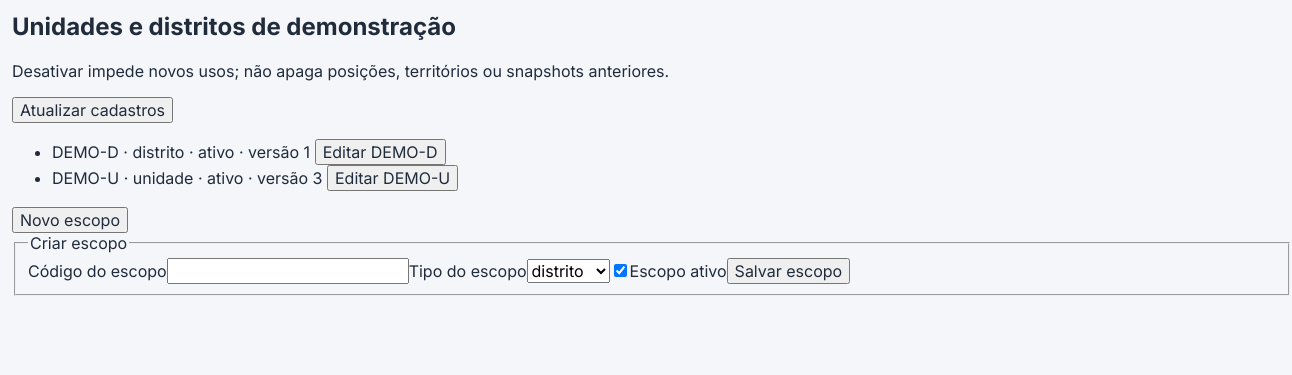
Scenario: administrative metadata boundary › retains the exact scope command after an ambiguous response and reloads durable metadata
Click the button "Editar DEMO-U": x=393, y=178 x1=327 y1=165 x2=458 y2=191
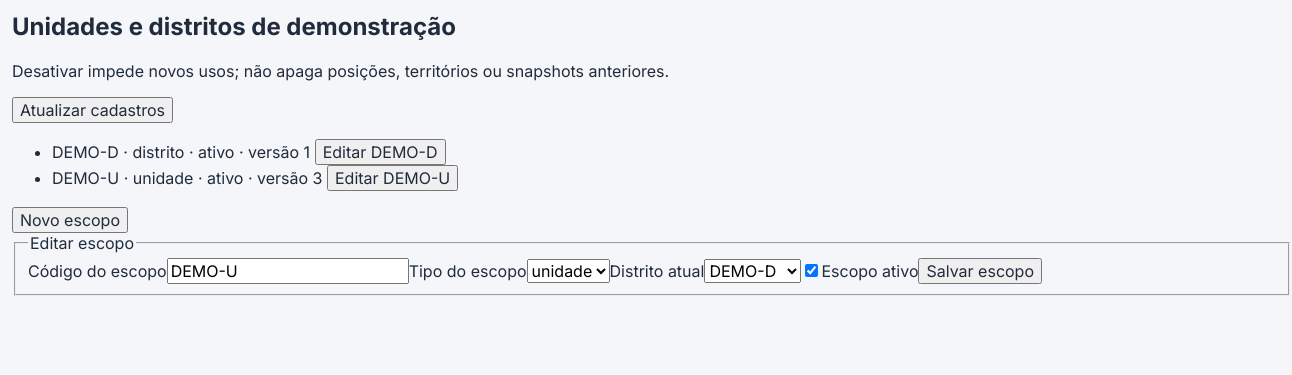
Replace the text in the field labelled "Código do escopo" with "DEMO-RENAMED": x=288, y=271 x1=167 y1=258 x2=409 y2=284
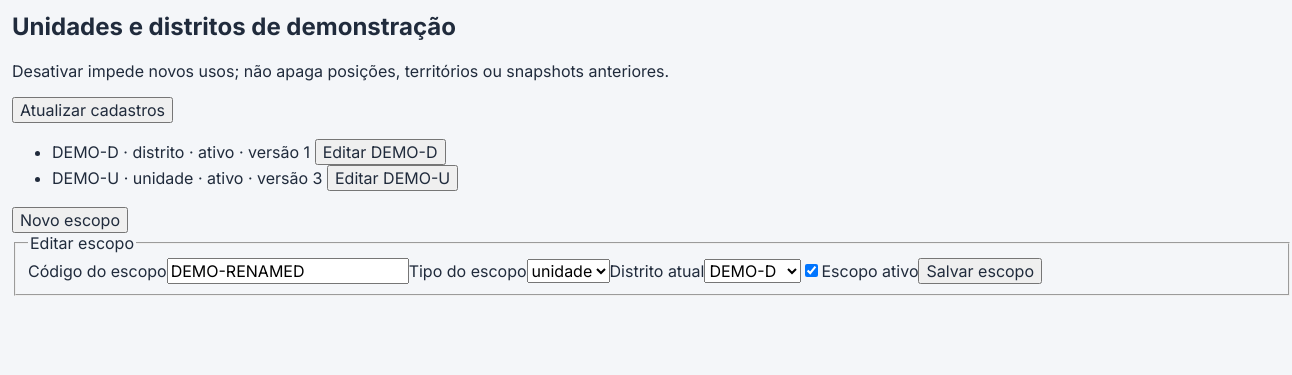
Click the button "Salvar escopo": x=980, y=271 x1=918 y1=258 x2=1042 y2=284
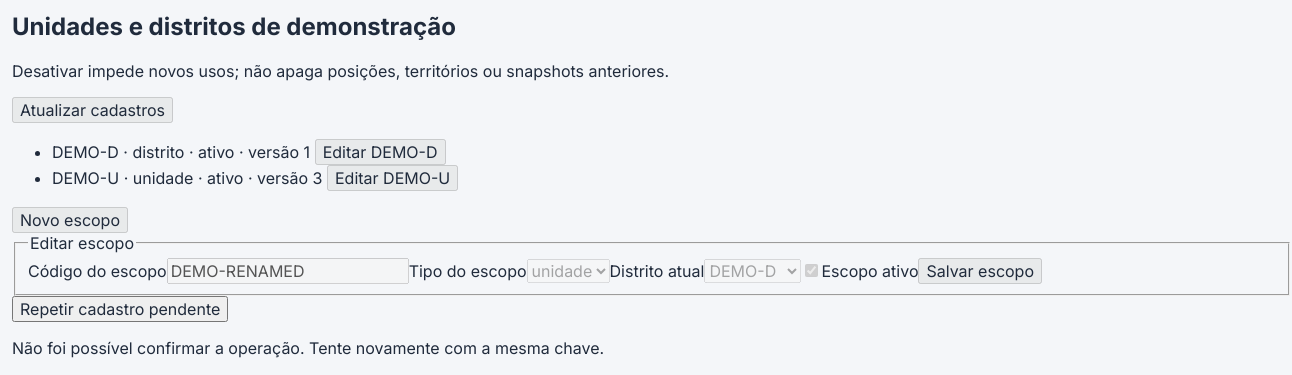
Click the button "Repetir cadastro pendente": x=120, y=309 x1=12 y1=296 x2=228 y2=322
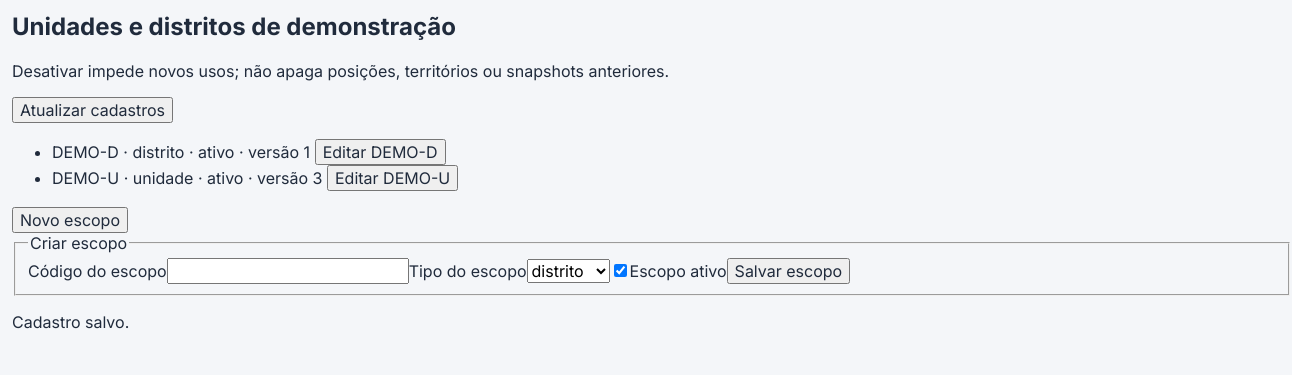
Result: the text "Cadastro salvo." is shown at x1=12 y1=312 x2=129 y2=332
